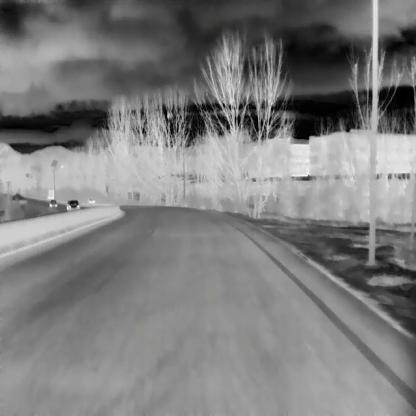car: (65, 199, 79, 211), (48, 199, 57, 206)
